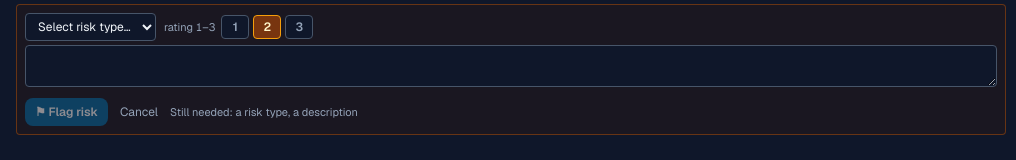
Test: ChecklistRiskForm › says what the disabled Flag button still needs
This screenshot has width=1016, height=160.
Select "Cooling" in the dropdown with test id "check-risk-type" at {"x": 90, "y": 27}, box [25,13,156,41]
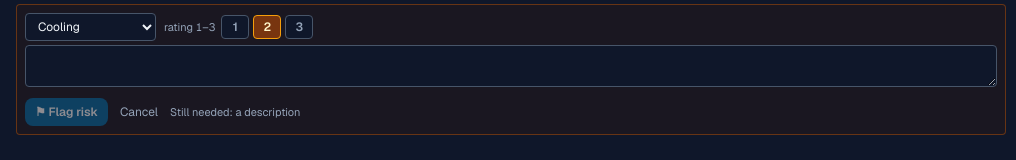
Type "gate" into the text box with test id "check-risk-note".
click(511, 66); type("gate")  # box [25,45,997,87]
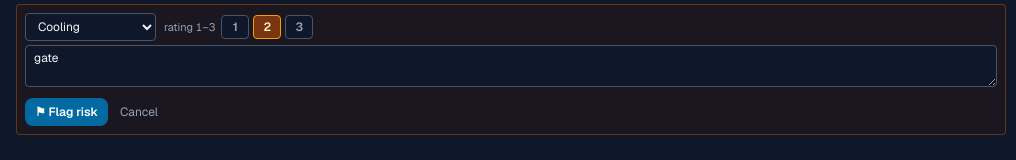
Expected: the text with test id "check-risk-missing" is gone
